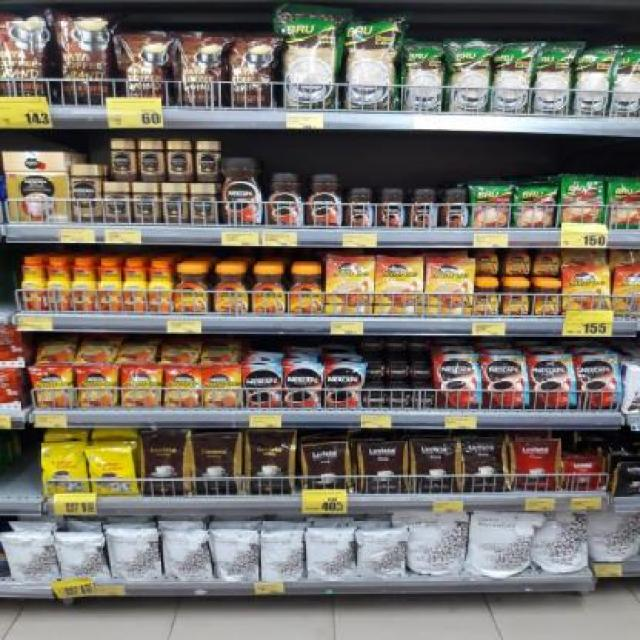Coffee: (219, 158, 261, 225), (329, 256, 373, 316), (377, 256, 421, 315), (427, 257, 471, 314), (533, 355, 576, 410), (579, 356, 621, 410), (562, 267, 609, 315), (438, 355, 479, 410), (486, 355, 528, 408), (267, 173, 305, 227), (306, 174, 342, 226), (71, 166, 103, 222), (287, 264, 322, 314), (213, 264, 247, 314), (176, 264, 210, 314), (32, 367, 72, 408), (79, 367, 116, 408), (125, 367, 160, 410), (254, 264, 284, 314), (246, 368, 283, 408), (327, 367, 362, 408), (205, 368, 240, 409), (286, 367, 319, 408), (147, 256, 171, 312), (166, 368, 200, 407), (21, 255, 44, 310), (102, 181, 130, 224), (47, 255, 68, 312), (408, 189, 438, 228), (100, 257, 120, 314), (74, 255, 94, 311), (110, 138, 136, 180), (192, 182, 218, 223), (167, 138, 191, 182), (442, 189, 469, 228), (134, 181, 158, 224), (348, 188, 374, 227), (164, 182, 188, 224), (125, 256, 143, 312), (532, 280, 560, 316), (502, 280, 530, 315), (139, 138, 161, 182), (380, 189, 405, 226), (197, 140, 218, 182), (476, 280, 500, 315), (504, 250, 530, 276), (534, 249, 558, 277), (475, 248, 497, 275), (388, 386, 412, 408), (412, 358, 433, 380), (366, 385, 386, 407), (388, 360, 409, 380), (367, 359, 385, 381), (416, 386, 435, 406)
